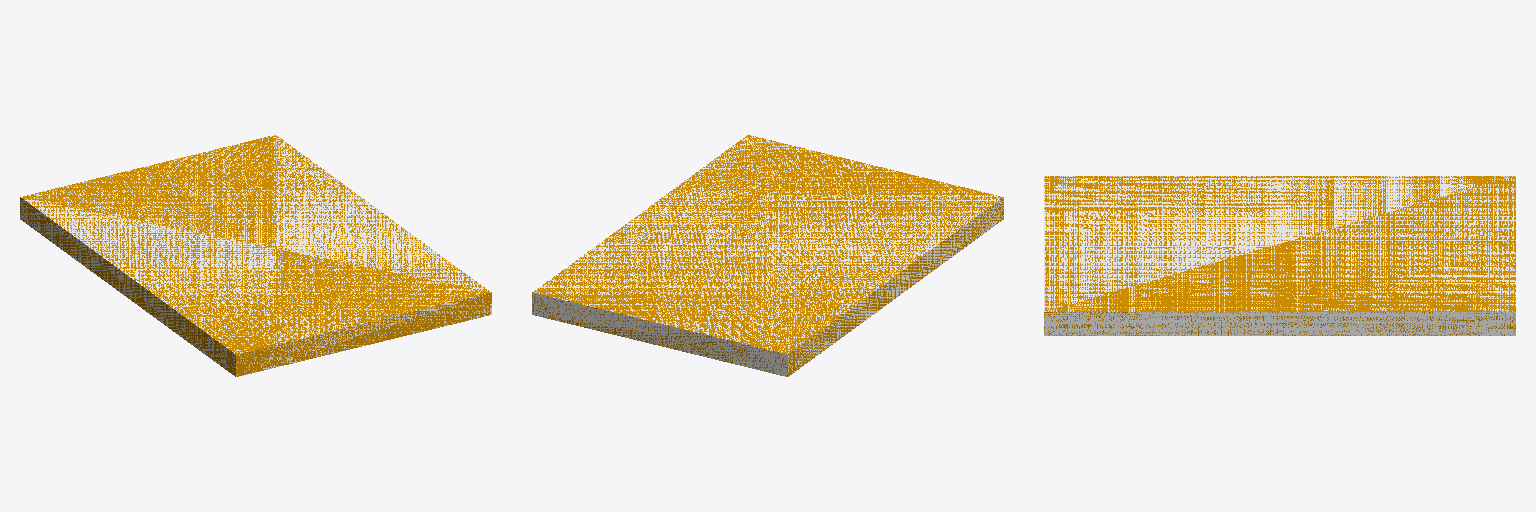
The robot description file, URDF, robot "my_object":
<?xml version="1.0" ?> 
<robot name="my_object" static="true">
  <link name="base_link">
  <inertial>
    <mass value="0.700" />
    <origin xyz="0 0 0.0" />
    <inertia ixx="1.0" ixy="0.0" ixz="0.0" iyy="1.0" iyz="0.0" izz="1.0"/>
  </inertial>
  <visual>
   <origin xyz="0 0 0.0" rpy="0 0 0" />
   <geometry>
     <mesh filename="package://cob_gazebo_objects/Media/models/pizza_box.dae"/>
   </geometry>
  </visual>
  <collision>
   <origin xyz="0 0 0.0175" rpy="0 0 0" />
   <geometry>
     <box size="0.41 0.60 0.035" />
   </geometry>
  </collision>     
  </link>


<gazebo reference="base_link">
  <mu1>1.0</mu1>
  <mu2>1.0</mu2>
  <kp>1000000.0</kp>
  <kd>1.0</kd>
</gazebo>

<gazebo>
	<static>false</static>
</gazebo>
</robot>

--- Render facts (derived) ---
Views: 3 orthographic renders of the robot side by side, from view 1: azimuth 30°, elevation 25°; view 2: azimuth 150°, elevation 25°; view 3: azimuth 270°, elevation 25°.
Robot: my_object — 1 links, 0 joints (none); root link base_link; default pose: every joint at zero.
Links seen in each view (by area): view 1: base_link; view 2: base_link; view 3: base_link.
Boxes of the visible links, x1,y1,x2,y2 form: base_link: (20,135,491,376); base_link: (532,135,1003,376); base_link: (1044,176,1515,335).
Size in the robot's own frame: 0.0104 by 0.0152 by 0.0009 metres.
1 mesh visuals loaded from 1 distinct referenced files (1 Collada DAE).